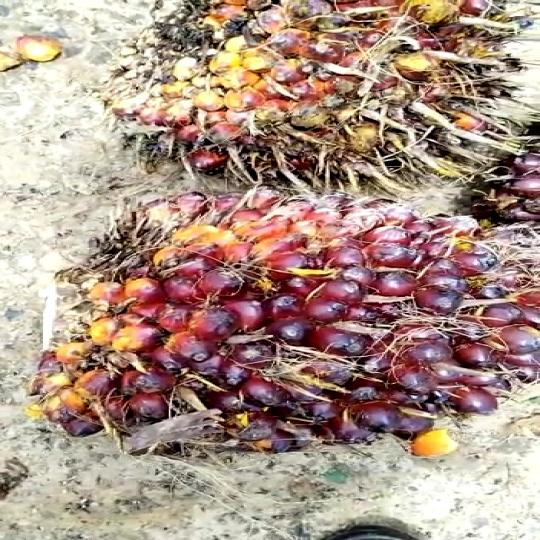masak: (35, 192, 540, 459), (96, 2, 540, 197)
